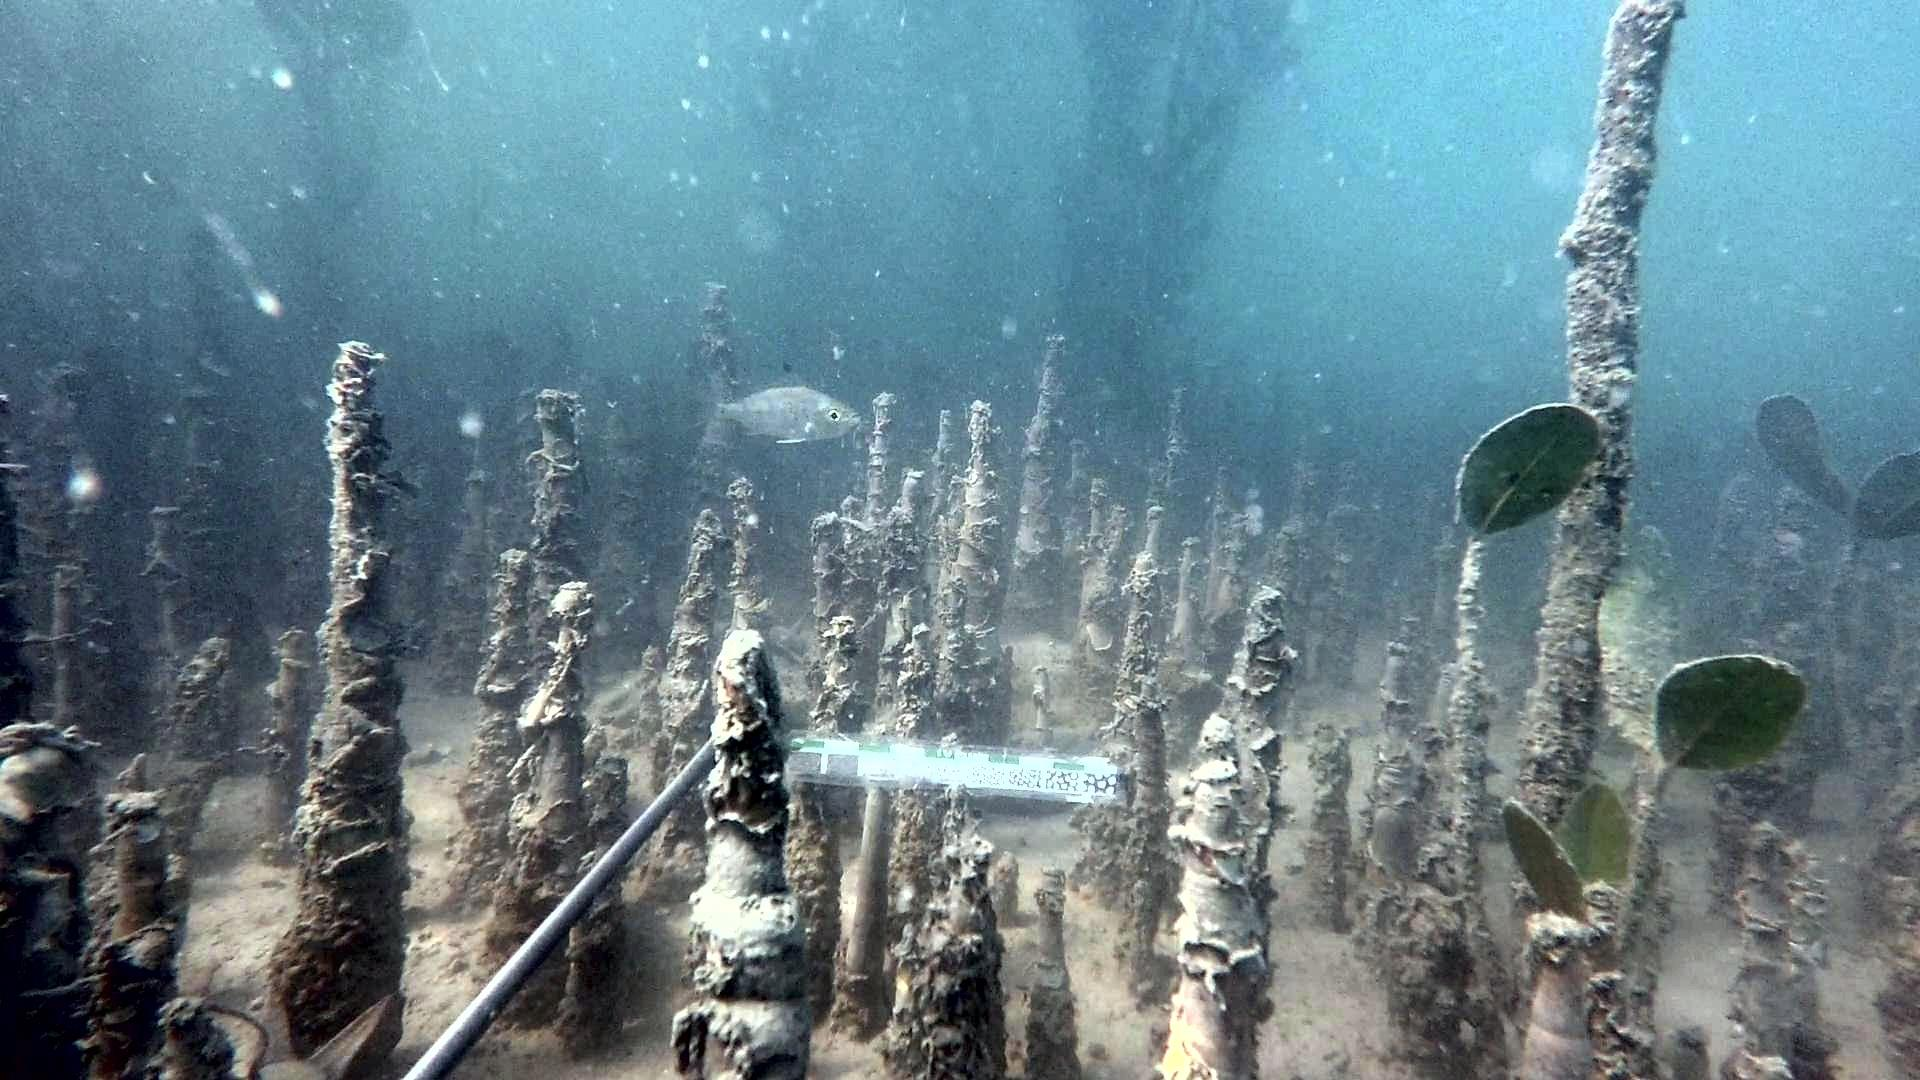gerres: (695, 360, 862, 446)
